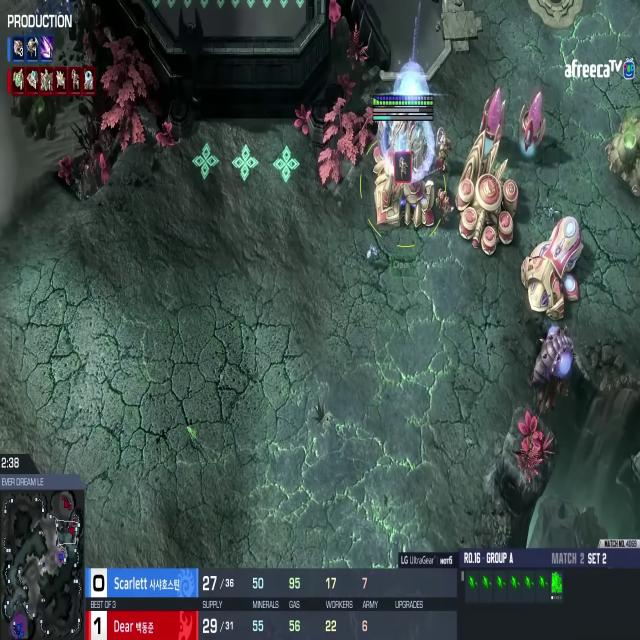adept: (433, 121, 452, 180)
overlord: (524, 312, 578, 412)
zealot: (433, 183, 455, 229)
